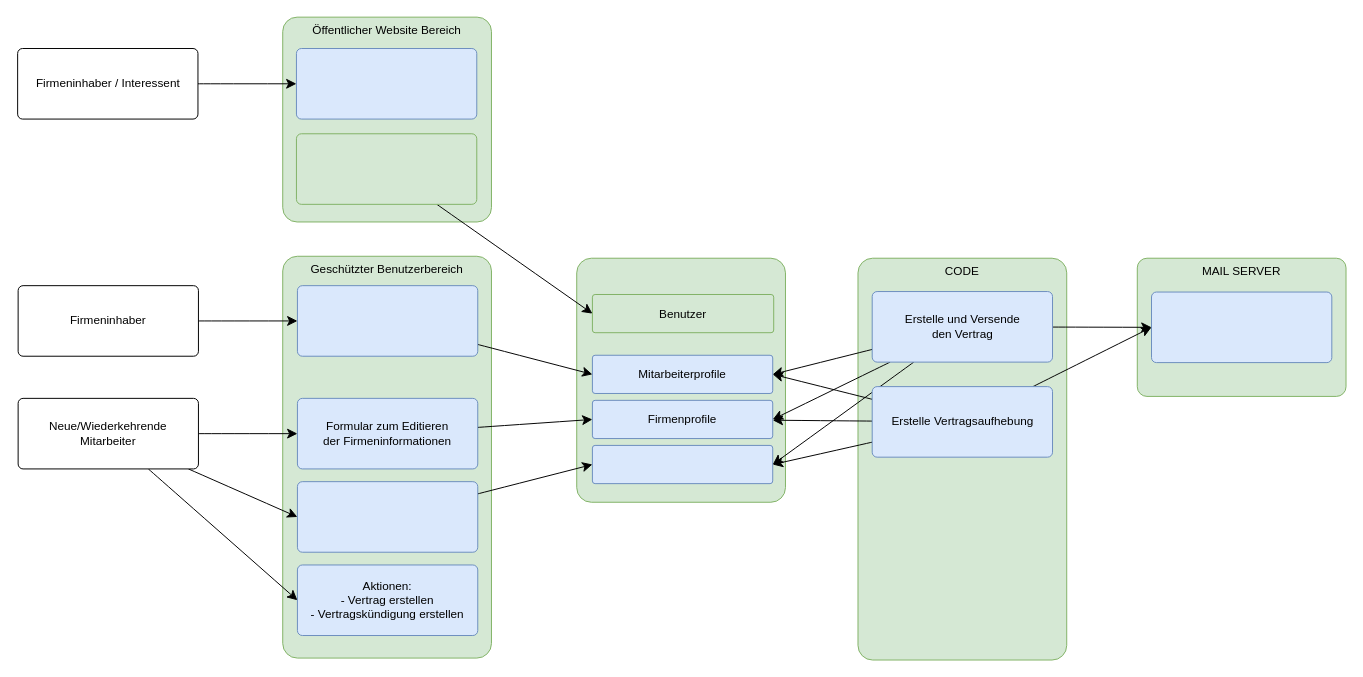
Some shapes in this 1363 by 677 pixel diagram are drawn without their labels. Here are the shapes that lost their labels. From the top down, the box of each, then its label:
(295, 48, 477, 119): Startseite
(295, 133, 477, 204): Anlegen eines Benutzerkontos
(296, 285, 478, 356): Formular zum Editieren des eigenen Profils
(1151, 291, 1332, 363): Sende Mail
(576, 257, 785, 502): DATENBANK
(591, 444, 773, 484): Zuordnung Mitarbeiter zu Firmen
(296, 481, 478, 552): Übersicht der Mitarbeiter und des Stastuses
